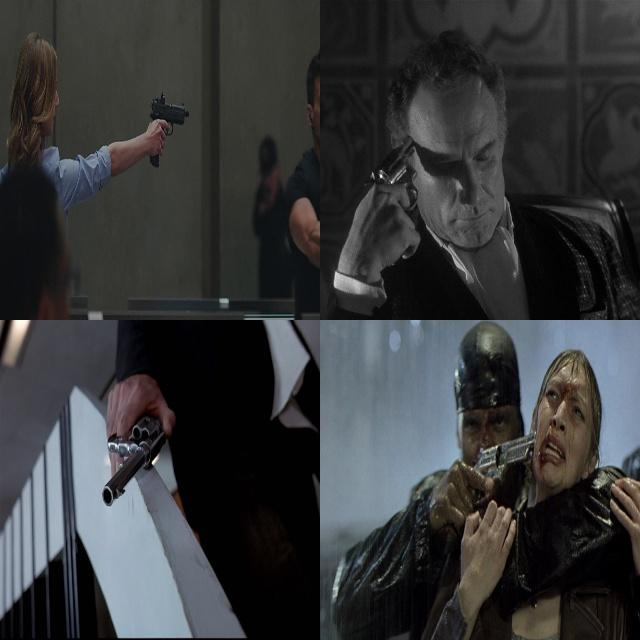gun-knife-thesis - v11 Yolov5 augmented: (436, 422, 533, 583), (97, 379, 170, 506), (363, 133, 421, 266), (146, 92, 189, 168)
